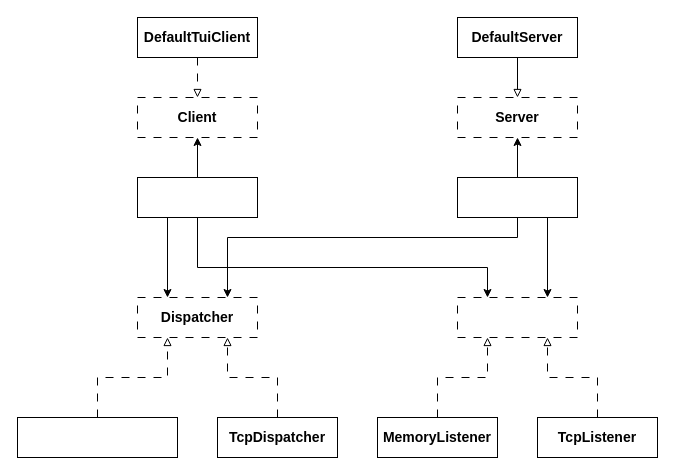
Image size: 675x475. Some labels were removed from this diagram. Here are the shapes that lost their labels. From the top down, the box of each, then its label:
(136, 176, 258, 218): ClientHandle
(456, 176, 578, 218): ServerHandle
(456, 296, 578, 338): Listener
(16, 416, 178, 458): MemoryDispatcher
